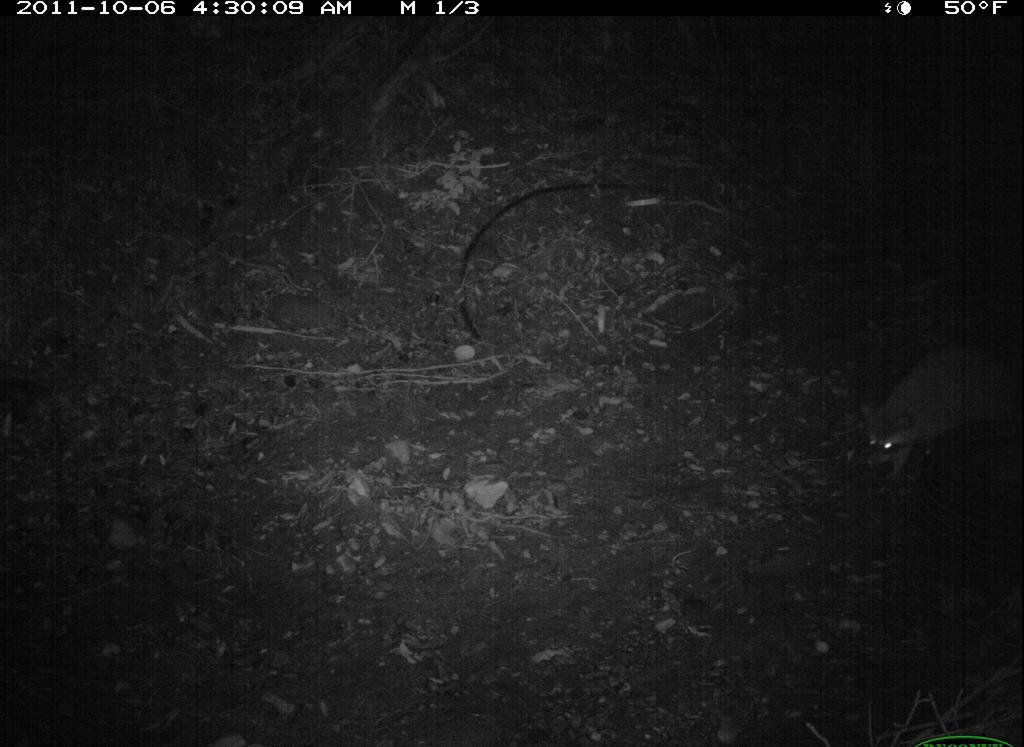raccoon: (854, 332, 1021, 484)
